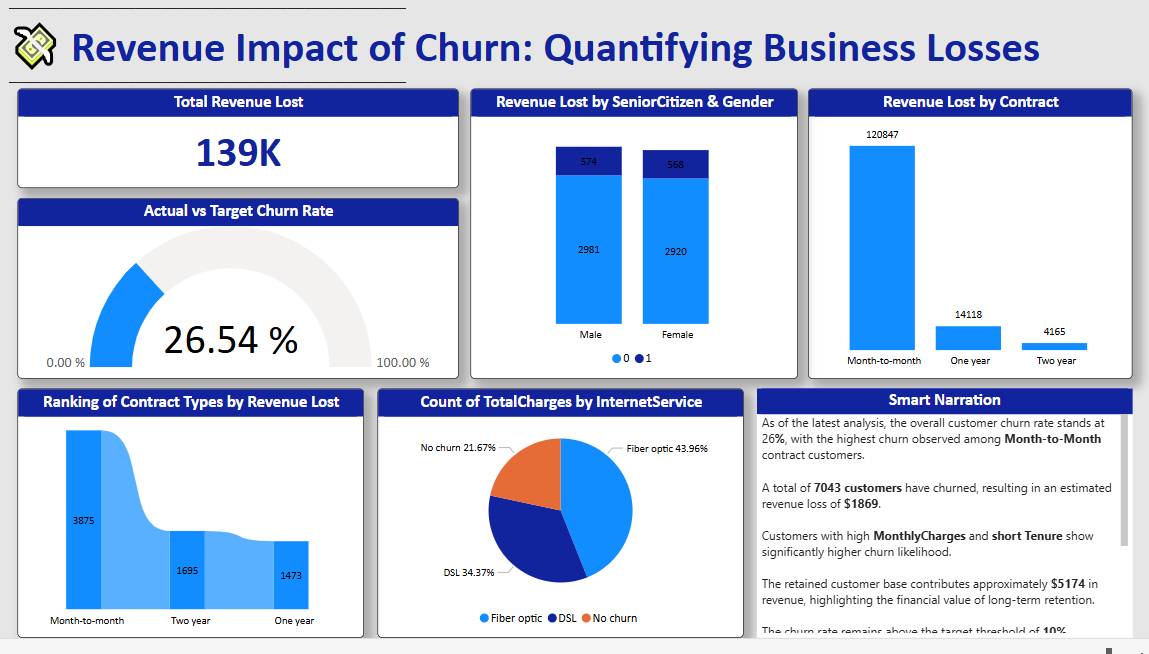

What the dashboard file says about the page in this screenshot:
{"tool":"powerbi","page":{"name":"Revenue Impact","canvas":[1280,720],"ordinal":2},"visuals":[{"type":"textbox","box":[0,0,1280.7,149.7],"z":0},{"type":"card","title":"Total Revenue Lost","fields":{"Values":["Sheet1.Revenue Lost"]},"box":[15.9,105,493.1,111.3],"z":1000},{"type":"columnChart","fields":{"Category":["Sheet1.Contract"],"Y":["Sheet1.Revenue Lost"]},"box":[898.7,105,362.7,324.5],"z":2000},{"type":"gauge","title":"Actual vs Target Churn Rate","fields":{"Y":["Sheet1.Churn Rate"]},"box":[15.9,227.5,493.1,202],"z":3000},{"type":"pieChart","fields":{"Category":["Sheet1.InternetService"],"Y":["CountNonNull(Sheet1.TotalCharges)"]},"box":[417.3,441.2,409.4,278.8],"z":4000},{"type":"columnChart","title":"Revenue Lost by SeniorCitizen & Gender","fields":{"Category":["Sheet1.gender"],"Series":["Sheet1.SeniorCitizen"],"Y":["CountNonNull(Sheet1.TotalCharges)"]},"box":[521.7,105,365.8,324.5],"z":5000},{"type":"ribbonChart","title":"Ranking of Contract Types by Revenue Lost","fields":{"Category":["Sheet1.Contract"],"Y":["CountNonNull(Sheet1.TotalCharges)"]},"box":[15.9,441.2,387.1,278.8],"z":6000},{"type":"textbox","title":"Smart Narration","box":[841.4,440.6,419.9,278.4],"z":6001}]}

Visuals, with their boxes in screenshot pixels (x1, y1, x2, y2), scaled from the page's 1280x720 canvas onto the 1149x654 screenshot:
textbox: 0, 0, 1148, 136
"Total Revenue Lost" card: 14, 95, 457, 196
columnChart - Sheet1.Contract x Sheet1.Revenue Lost: 807, 95, 1132, 390
"Actual vs Target Churn Rate" gauge: 14, 207, 457, 390
pieChart - Sheet1.InternetService x CountNonNull(Sheet1.TotalCharges): 375, 401, 742, 653
"Revenue Lost by SeniorCitizen & Gender" columnChart: 468, 95, 797, 390
"Ranking of Contract Types by Revenue Lost" ribbonChart: 14, 401, 362, 653
"Smart Narration" textbox: 755, 400, 1132, 653
